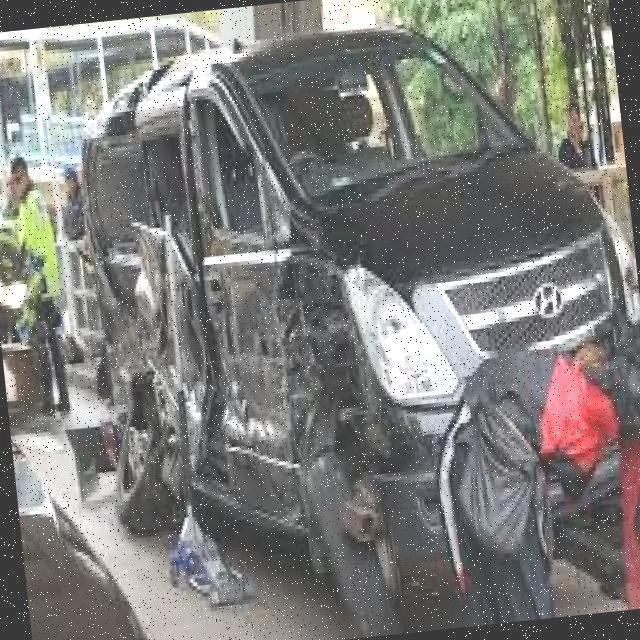accident: (22, 58, 448, 640)
